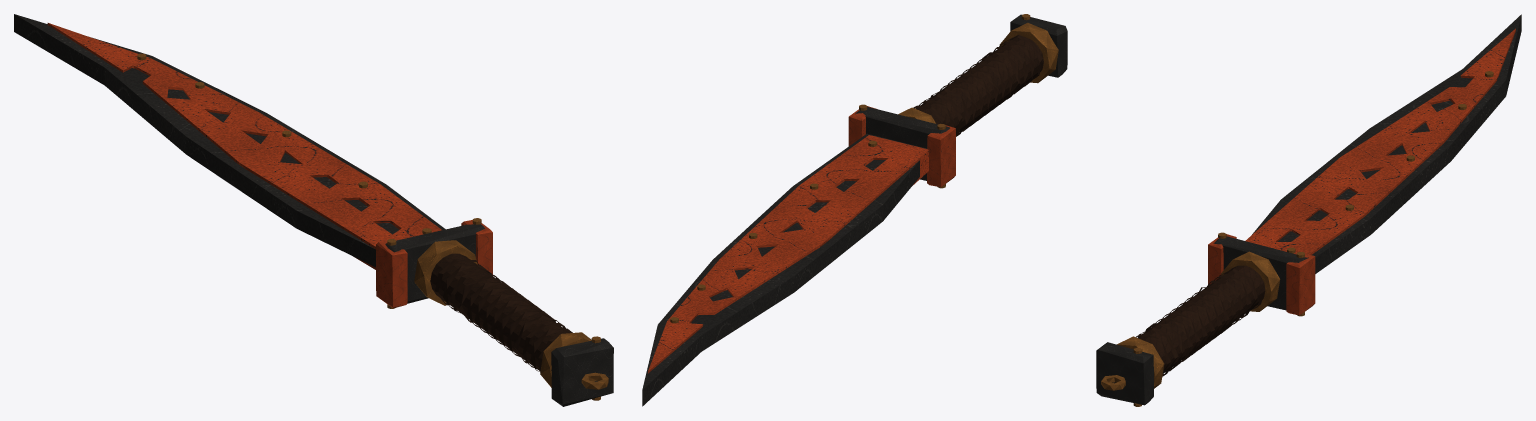
The model's file is kiln-sword-ready-lod1.glb.
The picture shows the model from 3 angles, left to right: view 1: azimuth 30°, elevation 25°; view 2: azimuth 150°, elevation 25°; view 3: azimuth 330°, elevation 25°; orthographic projection. The views are drawn at different scales.
Parts seen in each view (by area): view 1: Vented fired ceramic blade jacket, Forged wedge blade, Grip core, Pommel iron cap, Guard iron block, Ceramic guard cheek, Brass grip ferrule.001, Brass grip ferrule, Ceramic guard cheek.001; view 2: Vented fired ceramic blade jacket, Forged wedge blade, Grip core, Guard iron block, Ceramic guard cheek, Brass grip ferrule, Pommel iron cap, Ceramic guard cheek.001; view 3: Vented fired ceramic blade jacket, Forged wedge blade, Grip core, Pommel iron cap, Guard iron block, Ceramic guard cheek.001, Brass grip ferrule.001, Brass grip ferrule, Ceramic guard cheek.
Part boxes in pixels (<box>): Vented fired ceramic blade jacket: <box>47,23,441,269</box>; Forged wedge blade: <box>14,14,445,267</box>; Grip core: <box>430,253,569,371</box>; Pommel iron cap: <box>551,338,613,406</box>; Guard iron block: <box>385,224,484,303</box>; Ceramic guard cheek: <box>376,241,407,308</box>; Brass grip ferrule.001: <box>414,240,477,305</box>; Brass grip ferrule: <box>540,332,591,387</box>; Ceramic guard cheek.001: <box>461,220,492,274</box>; Vented fired ceramic blade jacket: <box>648,135,928,373</box>; Forged wedge blade: <box>642,133,926,406</box>; Grip core: <box>916,37,1043,133</box>; Guard iron block: <box>855,107,949,180</box>; Ceramic guard cheek: <box>927,125,955,187</box>; Brass grip ferrule: <box>999,22,1058,83</box>; Pommel iron cap: <box>1010,14,1067,77</box>; Ceramic guard cheek.001: <box>848,106,877,146</box>; Vented fired ceramic blade jacket: <box>1245,28,1515,254</box>; Forged wedge blade: <box>1252,14,1521,273</box>; Grip core: <box>1137,265,1265,373</box>; Pommel iron cap: <box>1096,342,1153,405</box>; Guard iron block: <box>1213,236,1308,310</box>; Ceramic guard cheek.001: <box>1286,253,1315,315</box>; Brass grip ferrule.001: <box>1221,251,1280,311</box>; Brass grip ferrule: <box>1117,336,1164,388</box>; Ceramic guard cheek: <box>1208,234,1236,284</box>.
Bounding box in the file's own units: 0.1745 × 0.092 × 1.31.
Materials: 4 (4 with a texture image).
